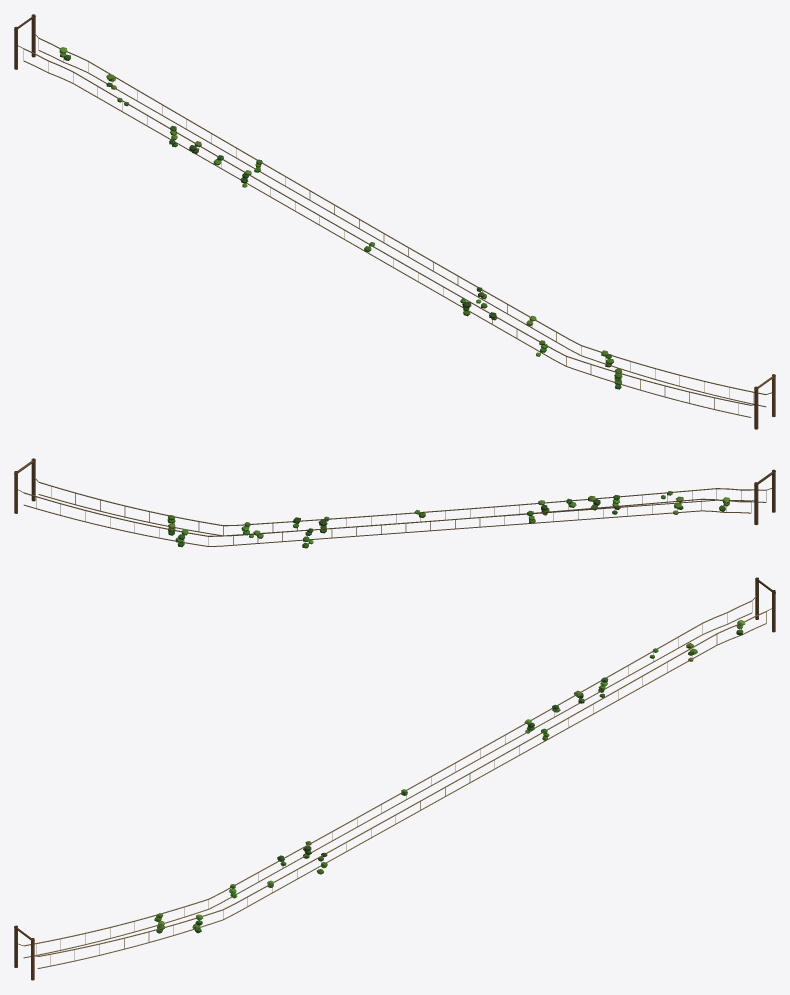
Rendered from SM_Bridge_03_04_Rails.fbx.
3 renders of one model, top to bottom at view 1: azimuth 30°, elevation 25°; view 2: azimuth 210°, elevation 25°; view 3: azimuth 270°, elevation 25°, orthographic.
Parts seen in each view (by area): view 1: SM_Bridge_03_04_Rails; view 2: SM_Bridge_03_04_Rails; view 3: SM_Bridge_03_04_Rails.
Boxes of the visible parts, <box> form: SM_Bridge_03_04_Rails: <box>14,14,775,429</box>; SM_Bridge_03_04_Rails: <box>14,458,775,548</box>; SM_Bridge_03_04_Rails: <box>14,577,775,980</box>.
Bounding box in the file's own units: 37.38 × 19.49 × 63.15.
